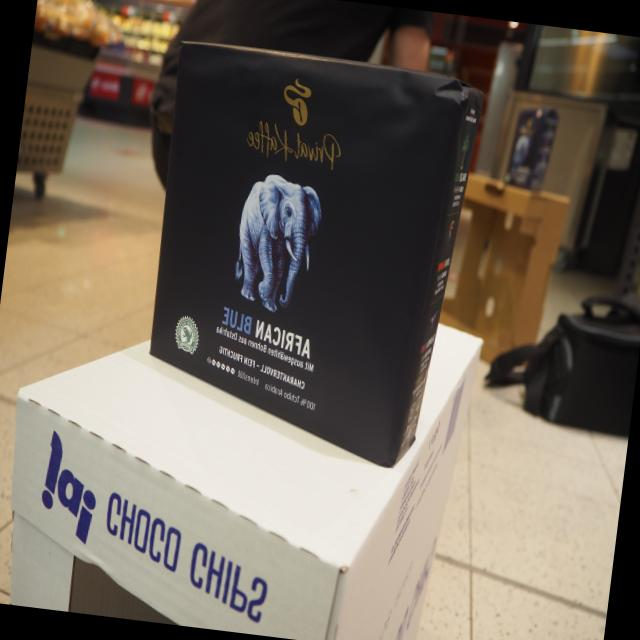AB Gemahlen: (145, 35, 476, 477)
